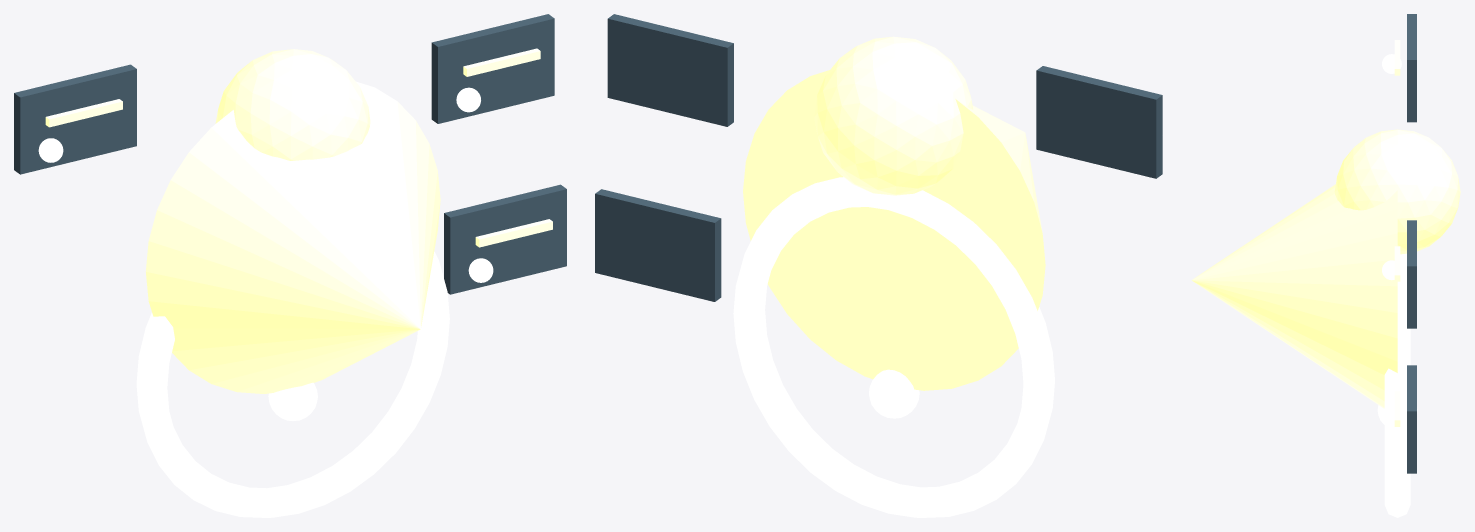
File: plan_15.glb
The picture shows the model from 3 angles, left to right: view 1: azimuth 30°, elevation 25°; view 2: azimuth 150°, elevation 25°; view 3: azimuth 270°, elevation 25°; orthographic projection. The views are drawn at different scales.
Parts seen in each view (by area): view 1: bell_body, bell_rim, bell_top, notification0.680.32, notification-0.680.48, notification0.72-0.22, bell_clapper, notifyline0.680.32, notifyline-0.680.48, notifyline0.72-0.22; view 2: bell_body, bell_rim, bell_top, notification0.72-0.22, notification0.680.32, notification-0.680.48, bell_clapper; view 3: bell_body, bell_top, bell_rim, notification-0.680.48, notification0.680.32, notification0.72-0.22.
Part boxes in pixels (left/top/right/bottom): bell_body: left=145, top=81, right=440, bottom=393; bell_rim: left=136, top=251, right=449, bottom=517; bell_top: left=215, top=49, right=370, bottom=160; notification0.680.32: left=431, top=14, right=554, bottom=123; notification-0.680.48: left=14, top=64, right=136, bottom=174; notification0.72-0.22: left=444, top=184, right=566, bottom=294; bell_clapper: left=268, top=382, right=317, bottom=420; notifyline0.680.32: left=463, top=48, right=540, bottom=76; notifyline-0.680.48: left=45, top=99, right=122, bottom=127; notifyline0.72-0.22: left=475, top=219, right=552, bottom=247; bell_body: left=743, top=70, right=1045, bottom=390; bell_rim: left=733, top=177, right=1054, bottom=517; bell_top: left=814, top=36, right=973, bottom=195; notification0.72-0.22: left=595, top=189, right=721, bottom=301; notification0.680.32: left=607, top=14, right=733, bottom=126; notification-0.680.48: left=1036, top=66, right=1162, bottom=178; bell_clapper: left=869, top=369, right=919, bottom=418; bell_body: left=1191, top=184, right=1397, bottom=408; bell_top: left=1334, top=129, right=1460, bottom=254; bell_rim: left=1384, top=253, right=1410, bottom=517; notification-0.680.48: left=1407, top=14, right=1416, bottom=122; notification0.680.32: left=1407, top=220, right=1416, bottom=328; notification0.72-0.22: left=1407, top=365, right=1416, bottom=473.
Bounding box in the file's own units: 1.82 × 1.52 × 0.9611.
